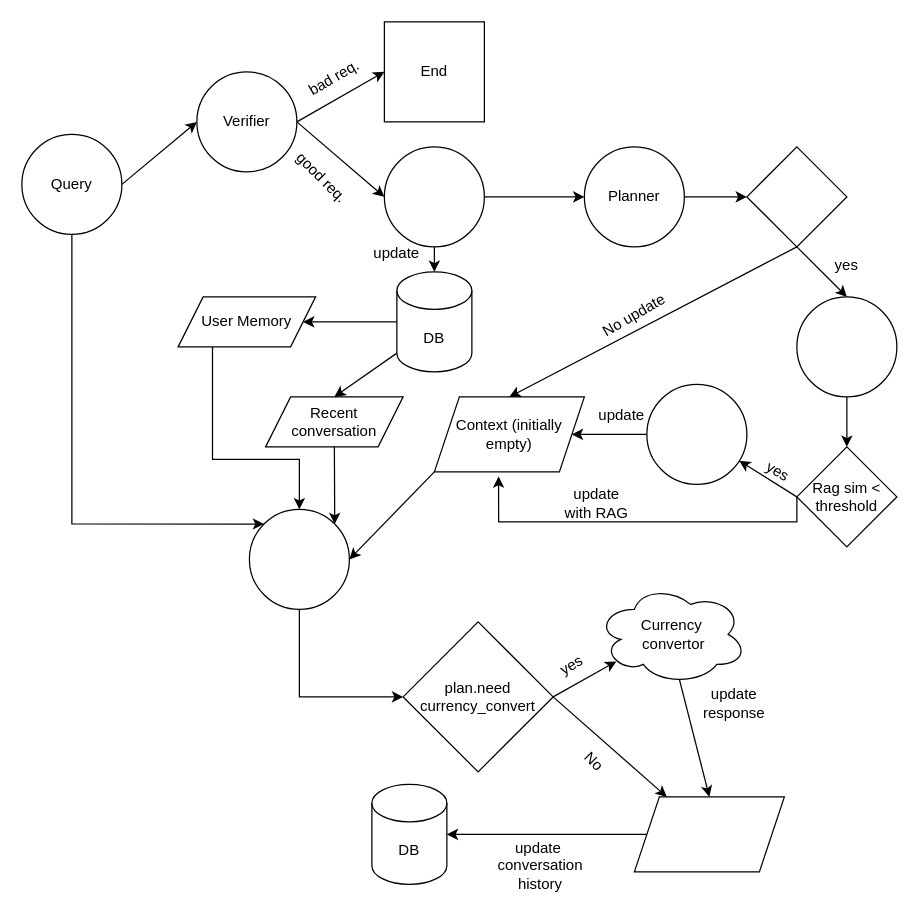
Image size: 919x919. Some labels were removed from this diagram. Here are the shapes that lost their labels. From the top down, the centre of each, then its label:
point (433, 196): Memory Agent
point (796, 196): plan.rag required
point (846, 346): RAG
point (696, 433): Knowledge Graph
point (298, 558): Response Agent
point (708, 834): Response
